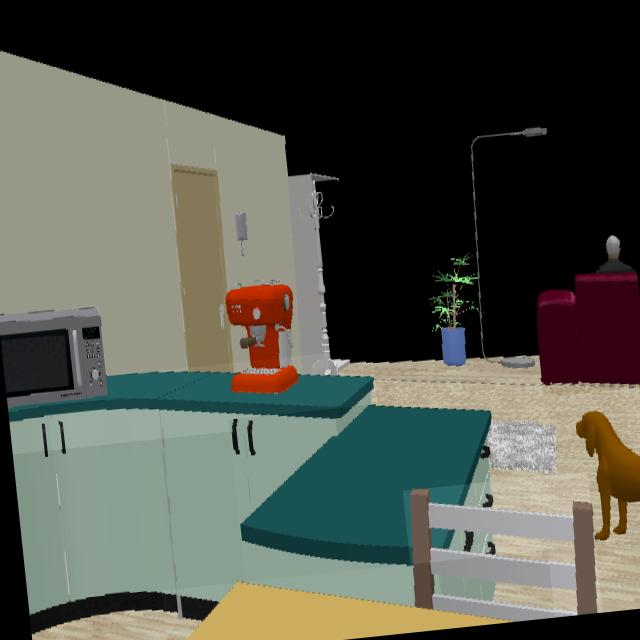cabinet: (9, 396, 416, 616)
chair: (410, 490, 598, 621)
countertop: (239, 406, 493, 566), (7, 373, 375, 423)
microwave: (0, 307, 108, 405)
person: (600, 235, 630, 271)
sofa: (537, 272, 640, 386)
table: (184, 582, 554, 640)
